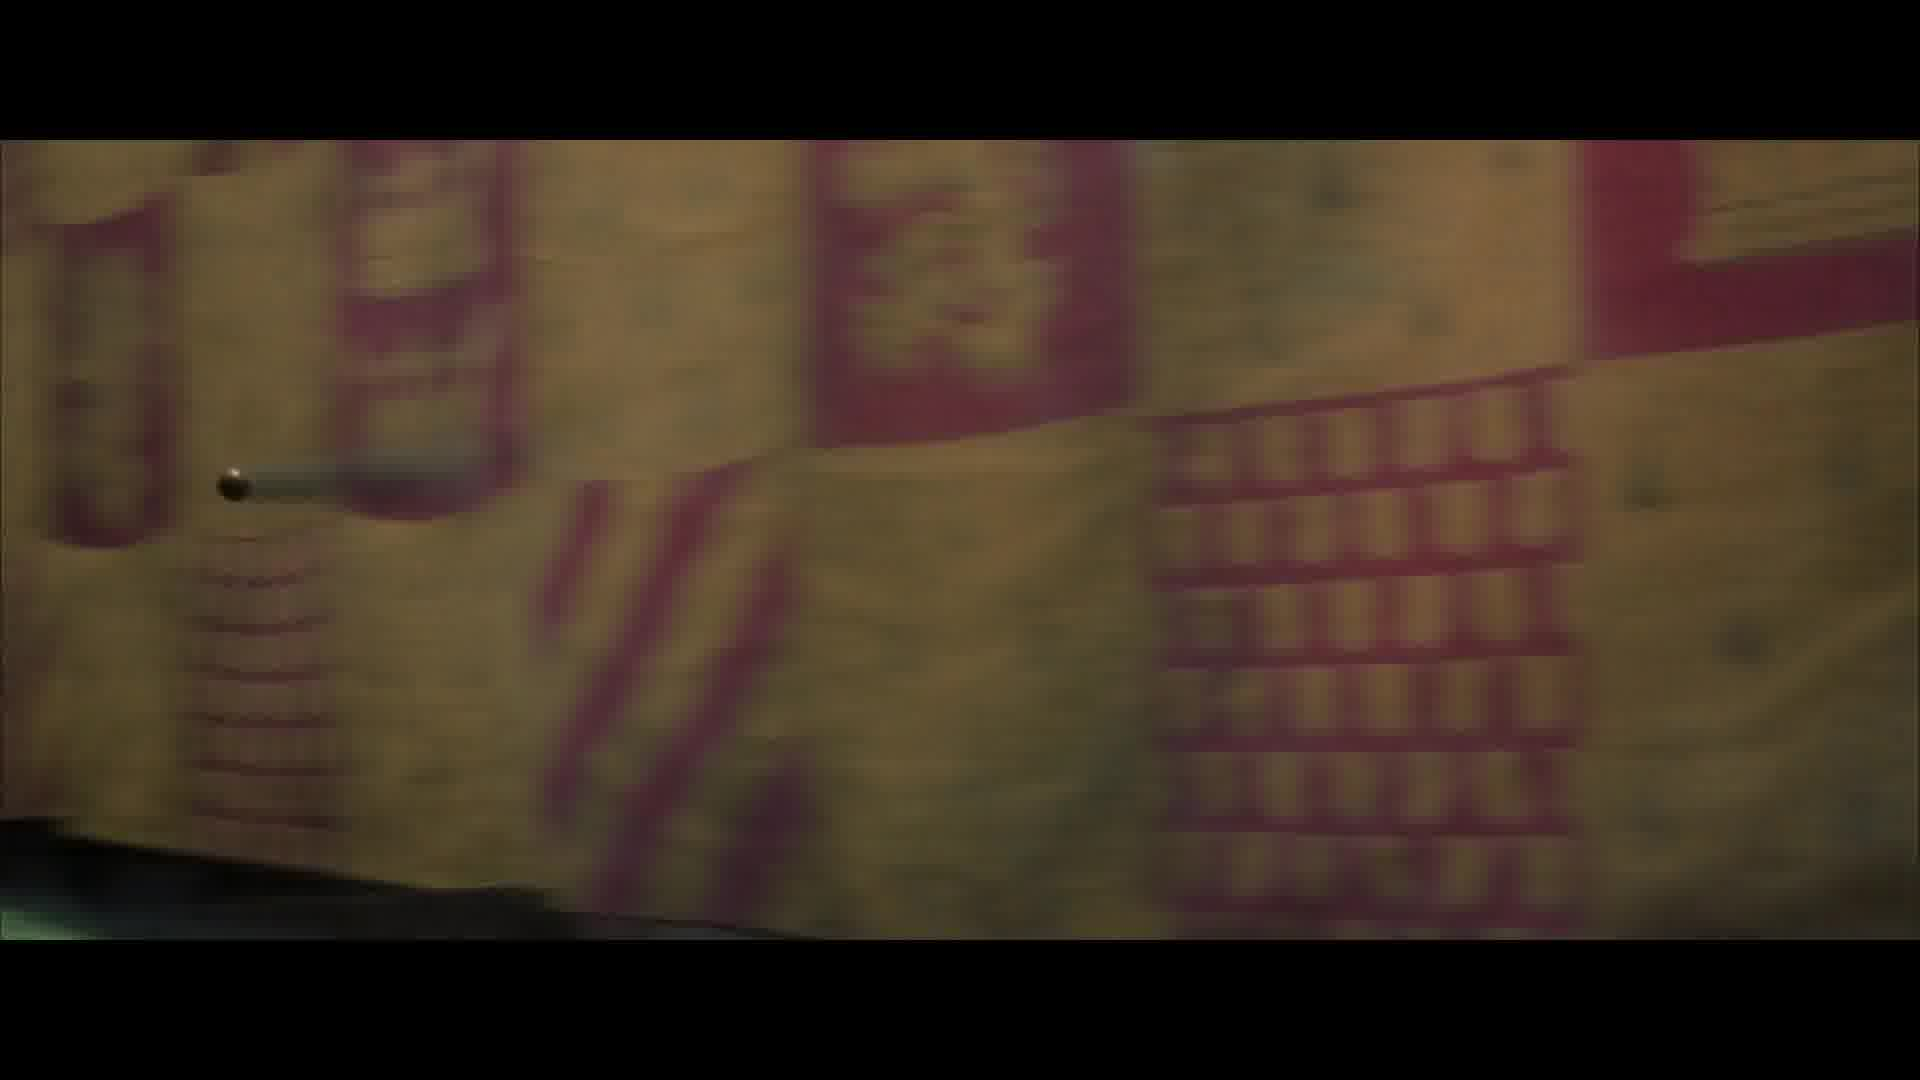bludger: (216, 469, 252, 506)
